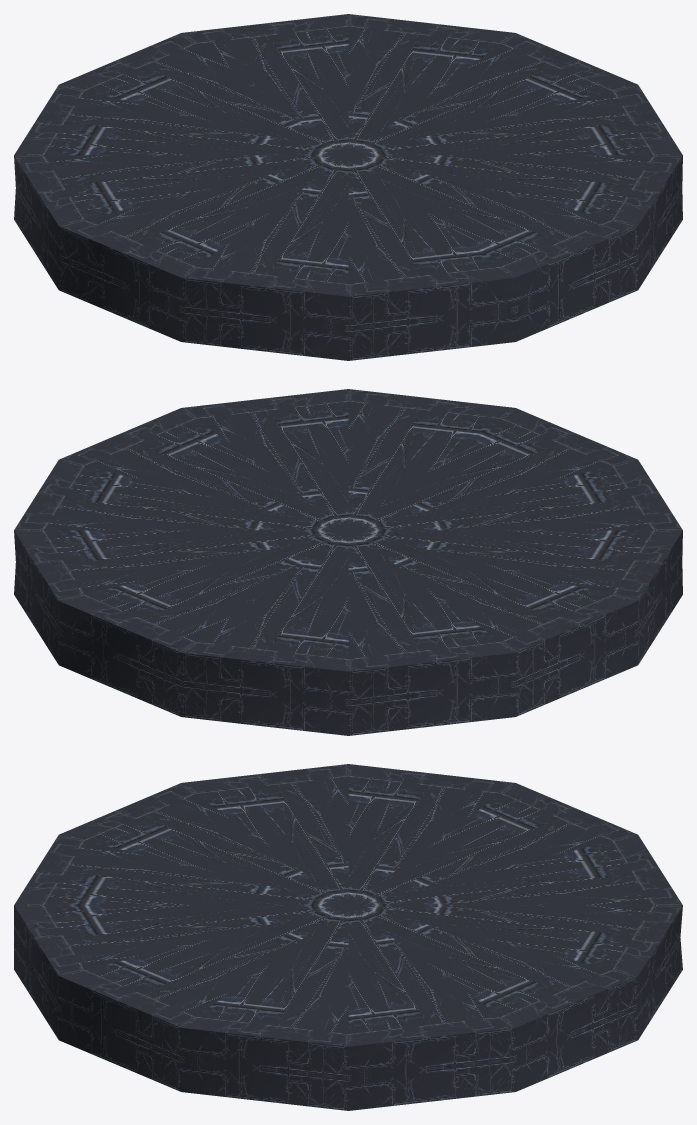
Rendered from ColumnBase_Art.fbx.
The picture shows the model from 3 angles, top to bottom: view 1: azimuth 30°, elevation 25°; view 2: azimuth 150°, elevation 25°; view 3: azimuth 270°, elevation 25°; orthographic projection.
Parts seen in each view (by area): view 1: ColumnBase_Art; view 2: ColumnBase_Art; view 3: ColumnBase_Art.
Part boxes in pixels (x1,y1,x2,y2): ColumnBase_Art: (14, 14, 682, 360); ColumnBase_Art: (14, 389, 682, 735); ColumnBase_Art: (14, 764, 682, 1110).
Bounding box in the file's own units: 1.95 × 0.2069 × 1.95.
